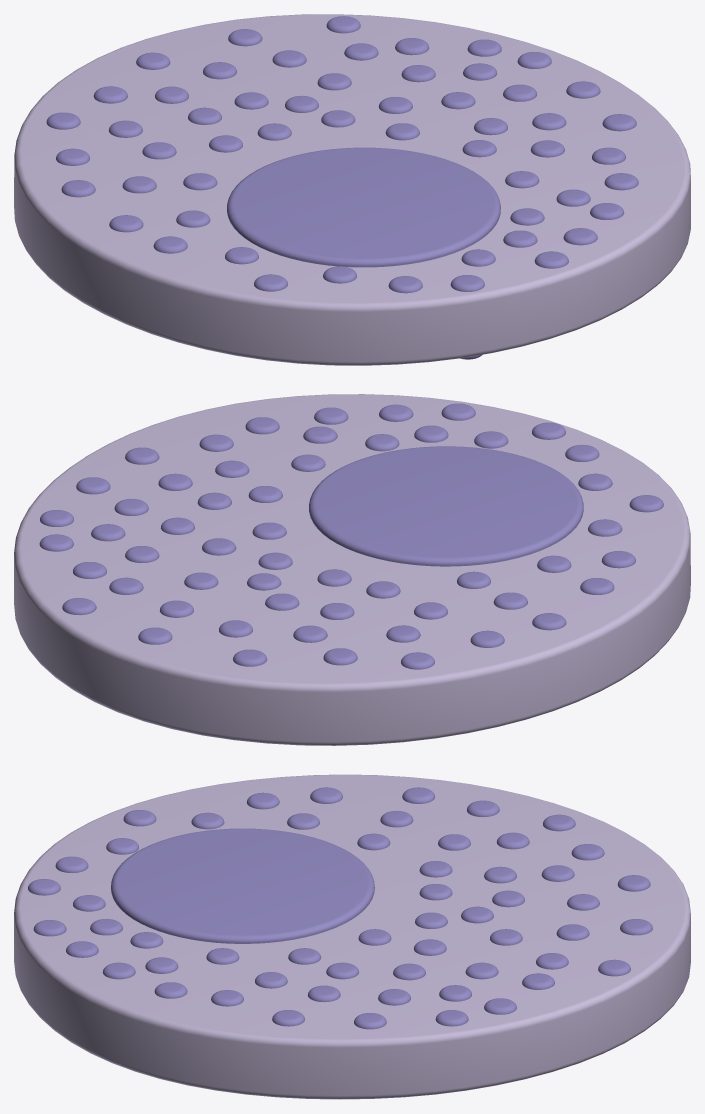
The model's file is Mastcell.fbx.
3 renders of one model, top to bottom at view 1: azimuth 30°, elevation 25°; view 2: azimuth 150°, elevation 25°; view 3: azimuth 270°, elevation 25°, orthographic. The views are drawn at different scales.
Parts seen in each view (by area): view 1: Cylinder.028, Cylinder.029, Cylinder.059; view 2: Cylinder.028, Cylinder.029; view 3: Cylinder.028, Cylinder.029.
Boxes of the visible parts, x1,y1,x2,y2 form: Cylinder.028: (14, 14, 690, 365); Cylinder.029: (227, 147, 500, 267); Cylinder.059: (450, 275, 484, 359); Cylinder.028: (14, 394, 690, 745); Cylinder.029: (309, 446, 583, 566); Cylinder.028: (14, 774, 690, 1099); Cylinder.029: (111, 828, 374, 943).
Bounding box in the file's own units: 194 × 24.42 × 205.
